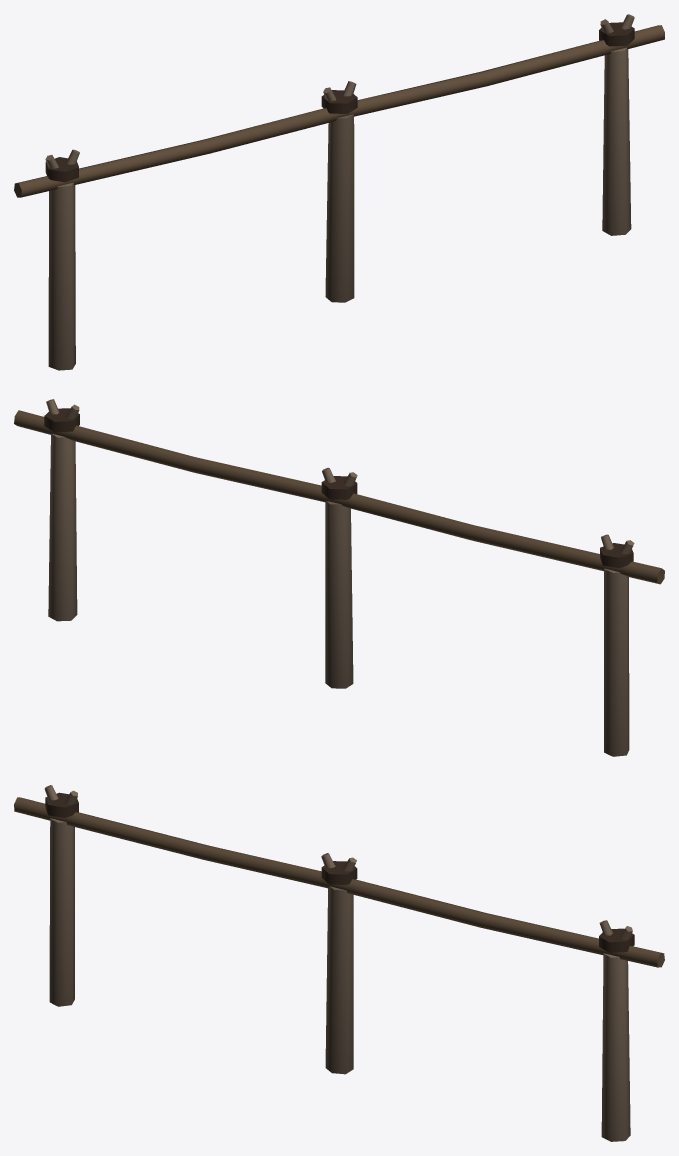
File: palenque.glb
3 views of the same model, one above another, from view 1: azimuth 30°, elevation 25°; view 2: azimuth 150°, elevation 25°; view 3: azimuth 330°, elevation 25° (orthographic).
Parts seen in each view (by area): view 1: Palenque; view 2: Palenque; view 3: Palenque.
Part boxes in pixels (<box>): Palenque: <box>14,14,664,370</box>; Palenque: <box>14,399,664,756</box>; Palenque: <box>14,785,664,1141</box>.
Size of what is drawn, in the model's own units: 5.8 by 1.84 by 0.2794.
